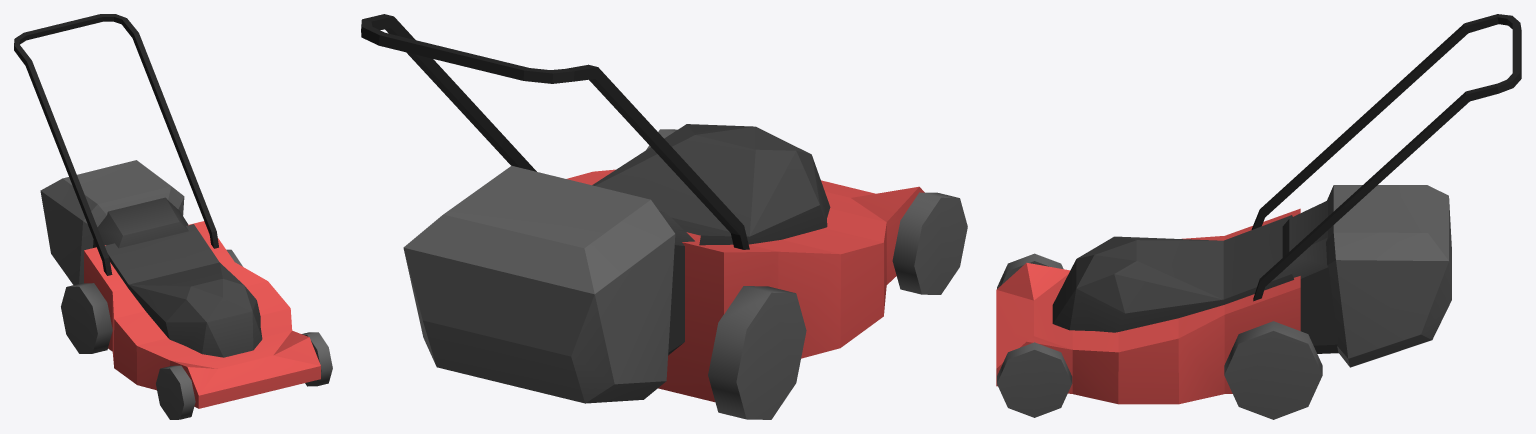
File: lawn_mower_001.glb
3 renders of one model, left to right at view 1: azimuth 30°, elevation 25°; view 2: azimuth 150°, elevation 25°; view 3: azimuth 270°, elevation 25°, orthographic. The views are drawn at different scales.
Visible parts, largest first — view 1: lawn_mower_001; view 2: lawn_mower_001; view 3: lawn_mower_001.
Part boxes in pixels (x1,y1,x2,y2): lawn_mower_001: [14, 14, 332, 419]; lawn_mower_001: [361, 14, 967, 419]; lawn_mower_001: [996, 14, 1521, 419].
Size of the model in its own units: 0.6561 by 0.9935 by 1.46.
1 material, 1 textured.
